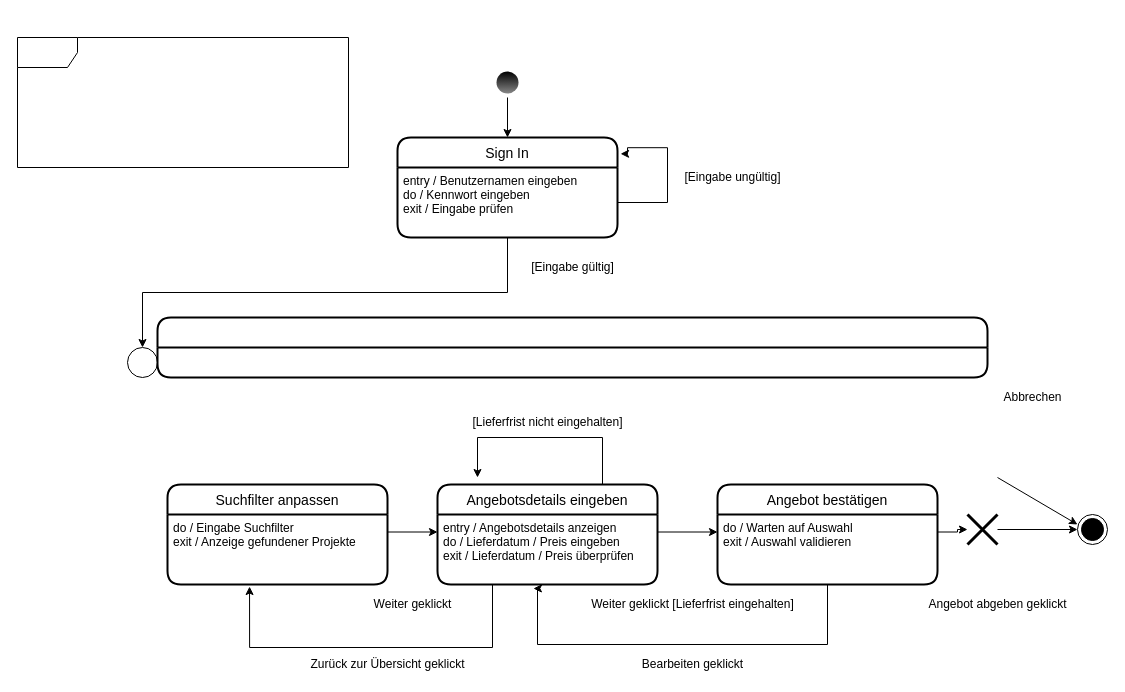
The diagram is 1125 pixels wide and 692 high, and some of its shapes have lost their labels. The shapes that lost their labels are listed below. From the top down, each one's centre as x and y in pixels, then its label:
point 182,102: Angebot auf Auftrag abgeben
point 572,347: Übersicht veröffentlichter Projekte
